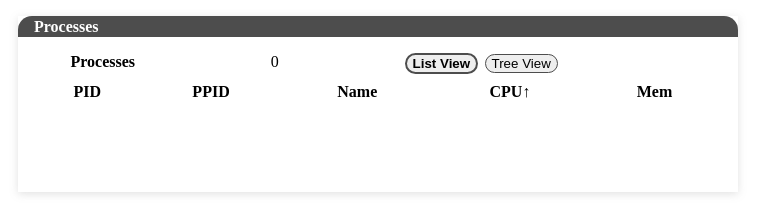
Test case: Memory component › should render processes as tree table when corresponding button clicked
Click button labelled `Tree View`
Click the button "Tree View" at (521,64), box [484, 54, 558, 73]
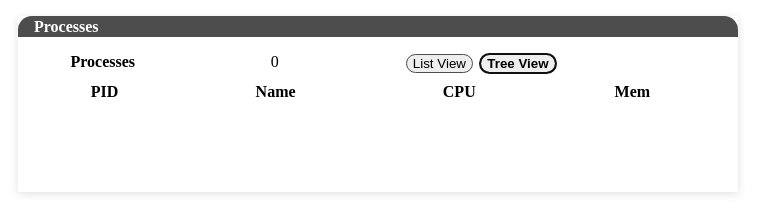
Now the column heading "PPID" is gone
